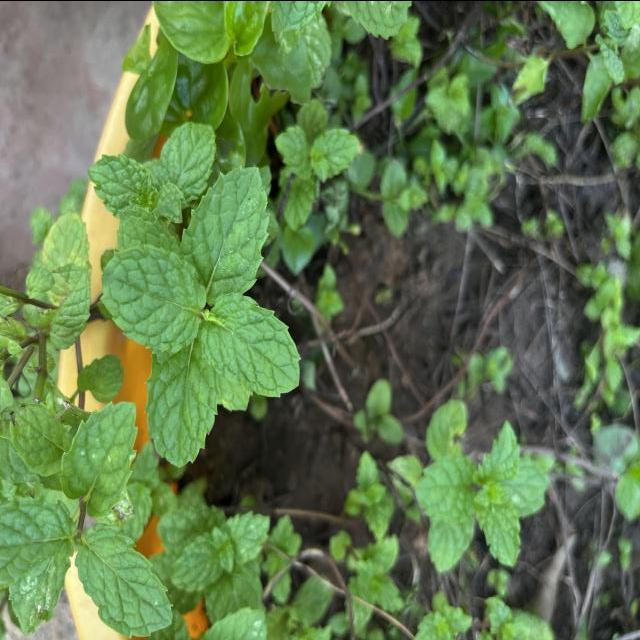Mentha spicata: (178, 162, 272, 296), (98, 242, 208, 354), (74, 522, 174, 638), (201, 287, 303, 398), (143, 335, 219, 468), (58, 398, 139, 518)
